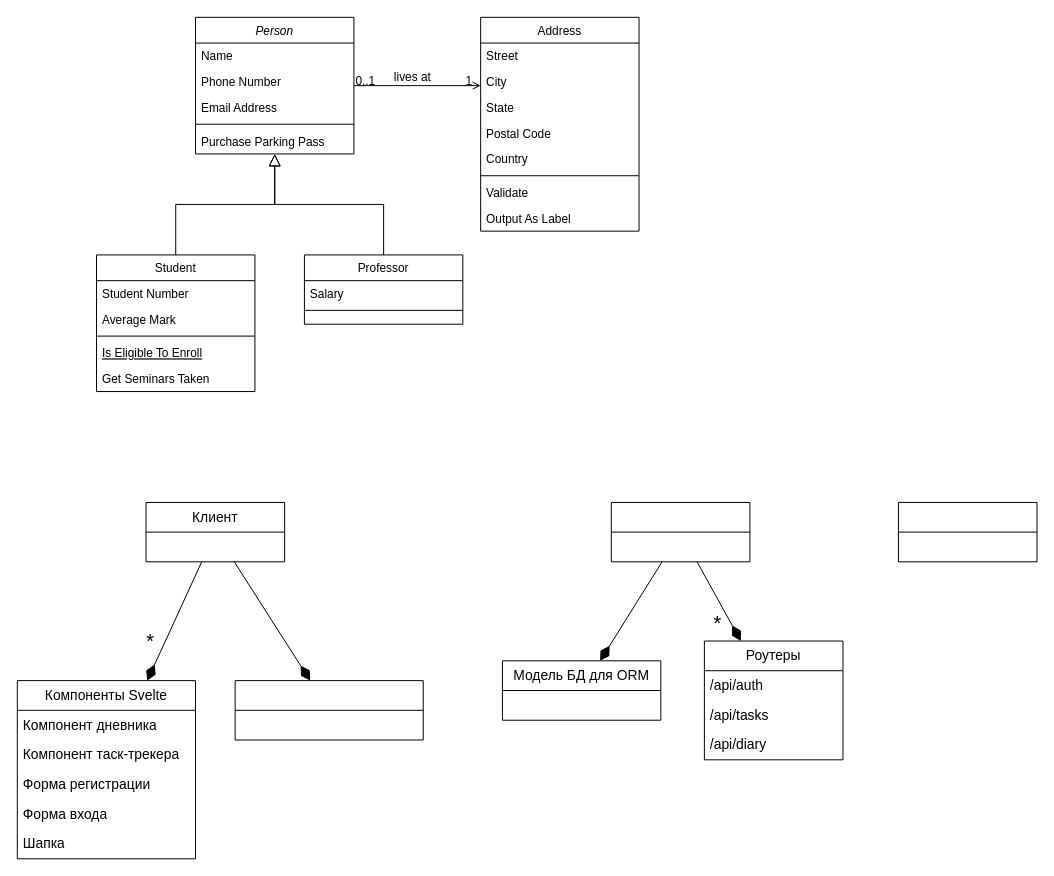
This 1054x876 diagram has some shape labels left out. The shapes that lost their labels are listed below. From the top down, each one's centre as x and y in pixels, then its label:
At point 680,531: "Сервер".
At point 967,531: "База данных".
At point 328,710: "API для взаимодействия с сервером".
